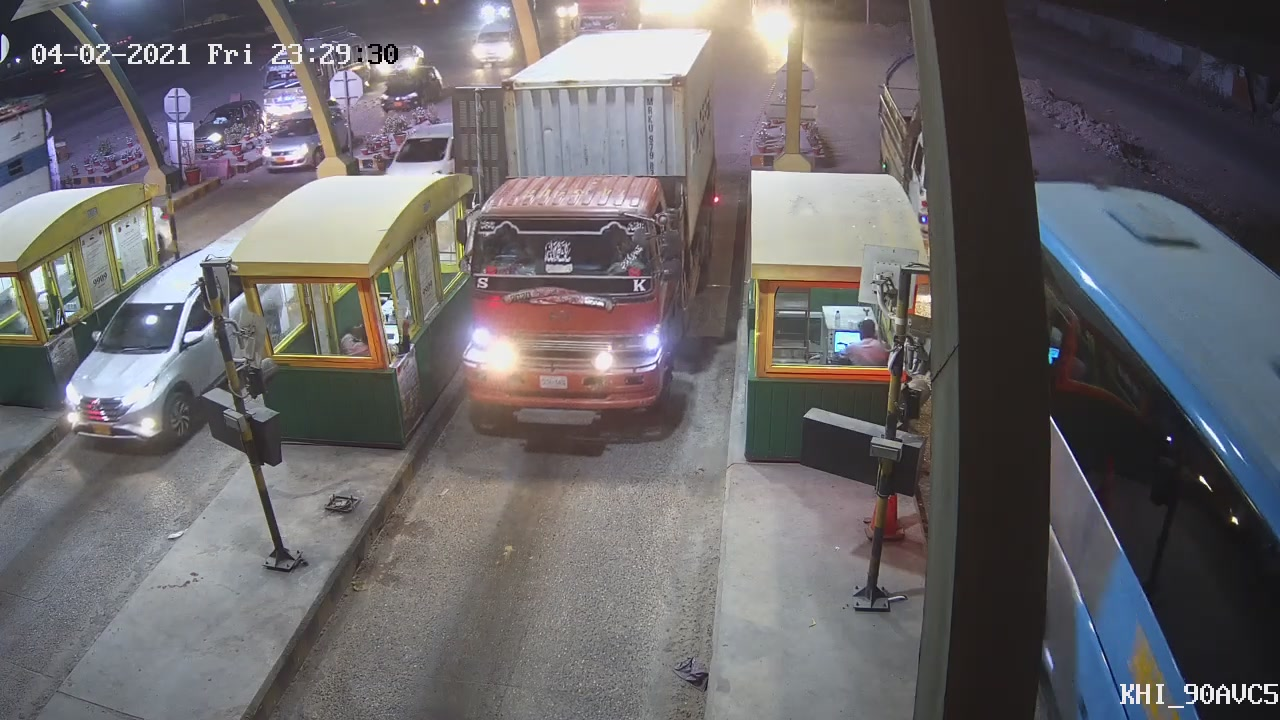F6: (445, 35, 718, 430)
